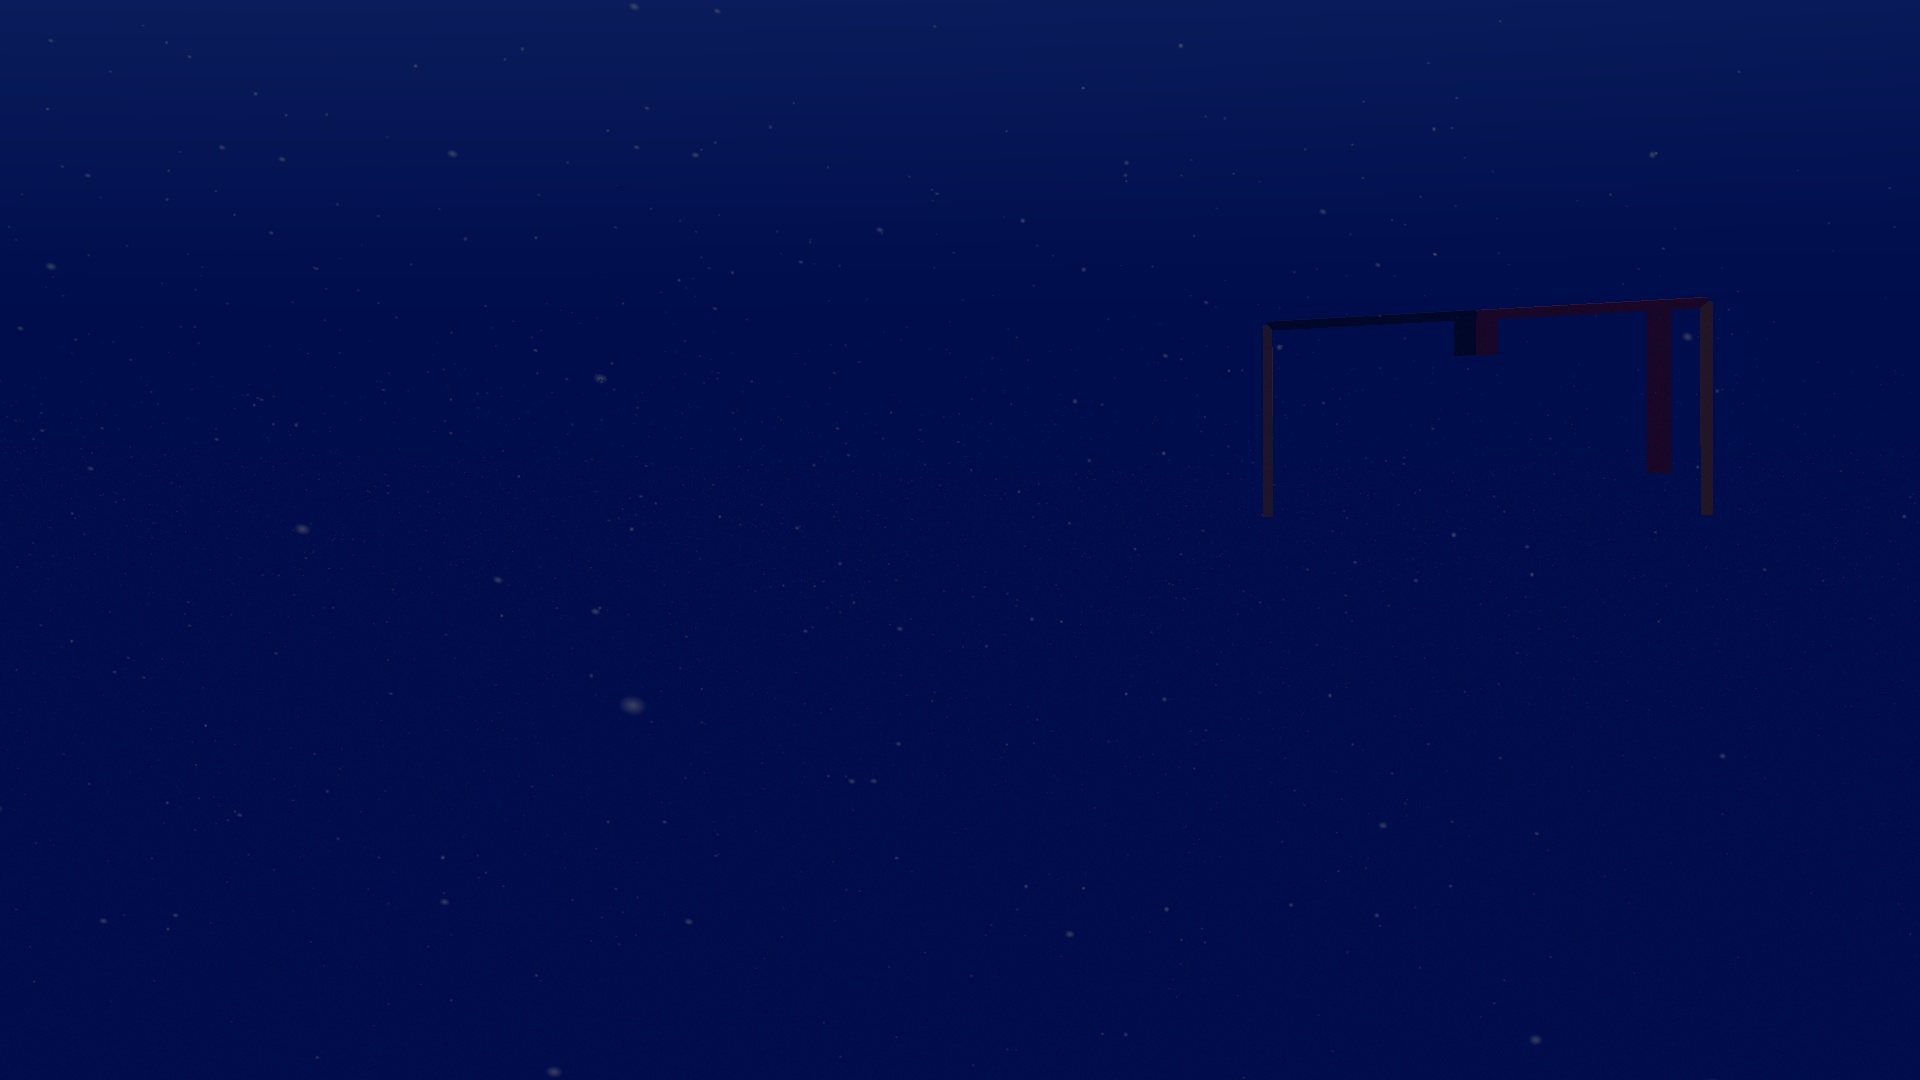Gate: (1255, 294, 1716, 527)
